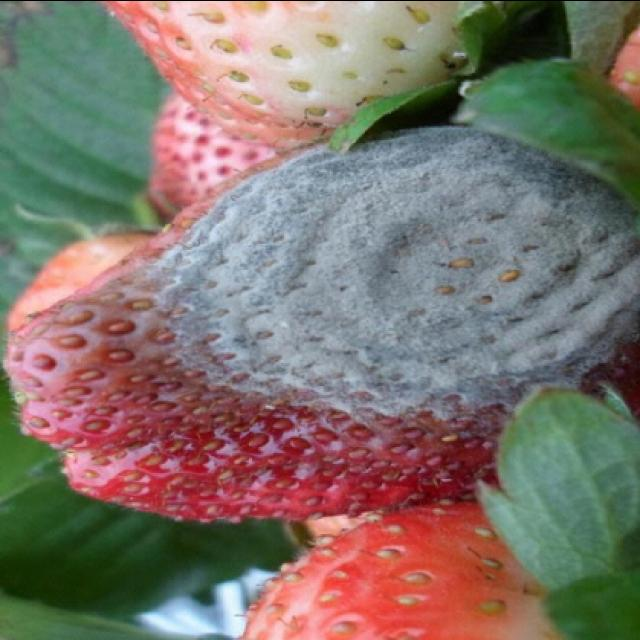Gray Mold: (58, 123, 638, 483)
